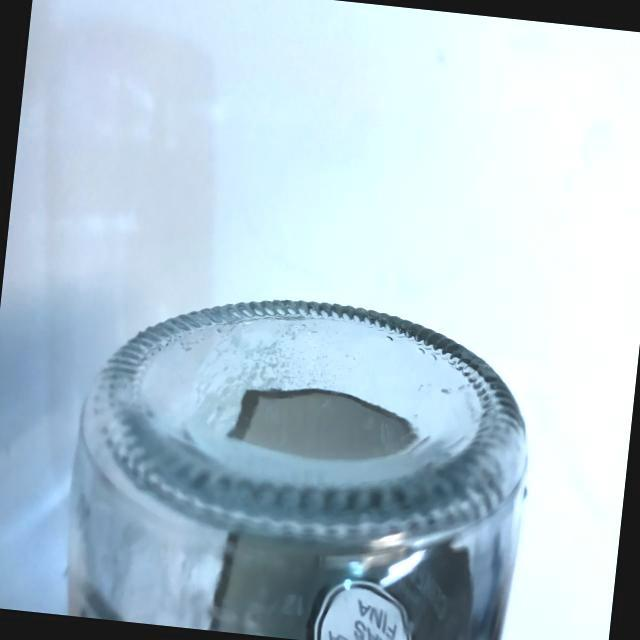glass: (49, 261, 557, 640)
